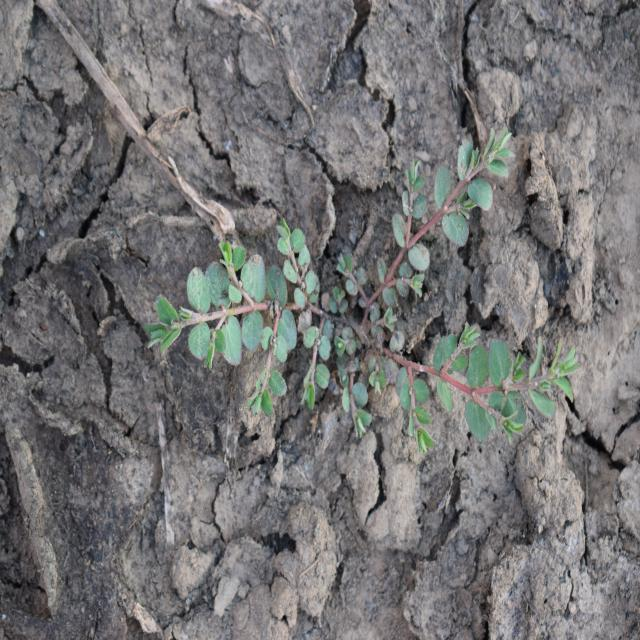SpottedSpurge: (144, 121, 584, 458)
